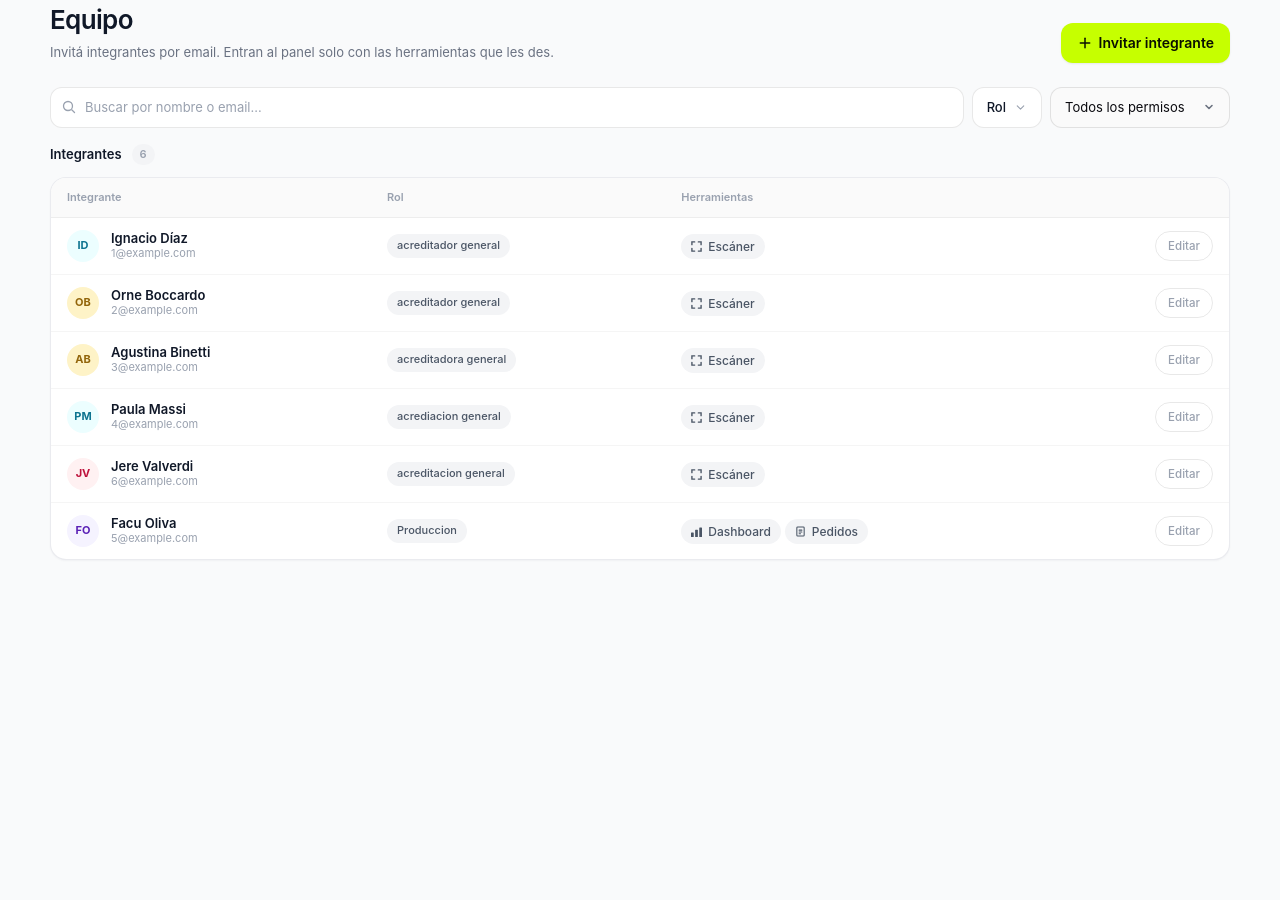
StaffView › si el rol ya existe, ofrece copiar sus herramientas
Expected: the text "Ignacio Díaz" is shown, left=111, top=230, right=196, bottom=246
Click the button "Invitar integrante".
click(1145, 42)  # box left=1061, top=22, right=1230, bottom=62
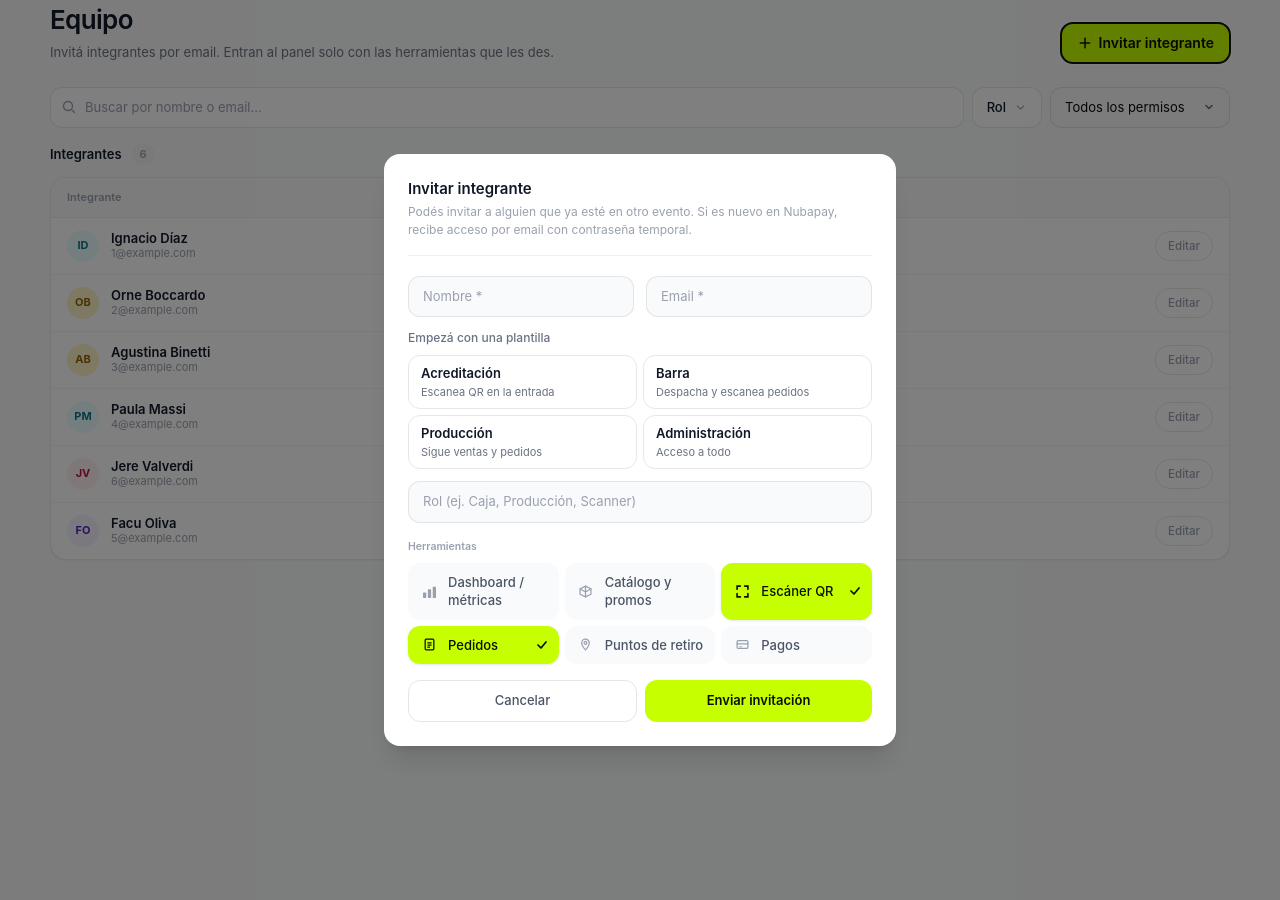
Type "Produccion" into the field with placeholder "Rol (ej. Caja, Producción, Scanner)".
click(640, 502); type("Produccion")  # box left=408, top=481, right=872, bottom=523
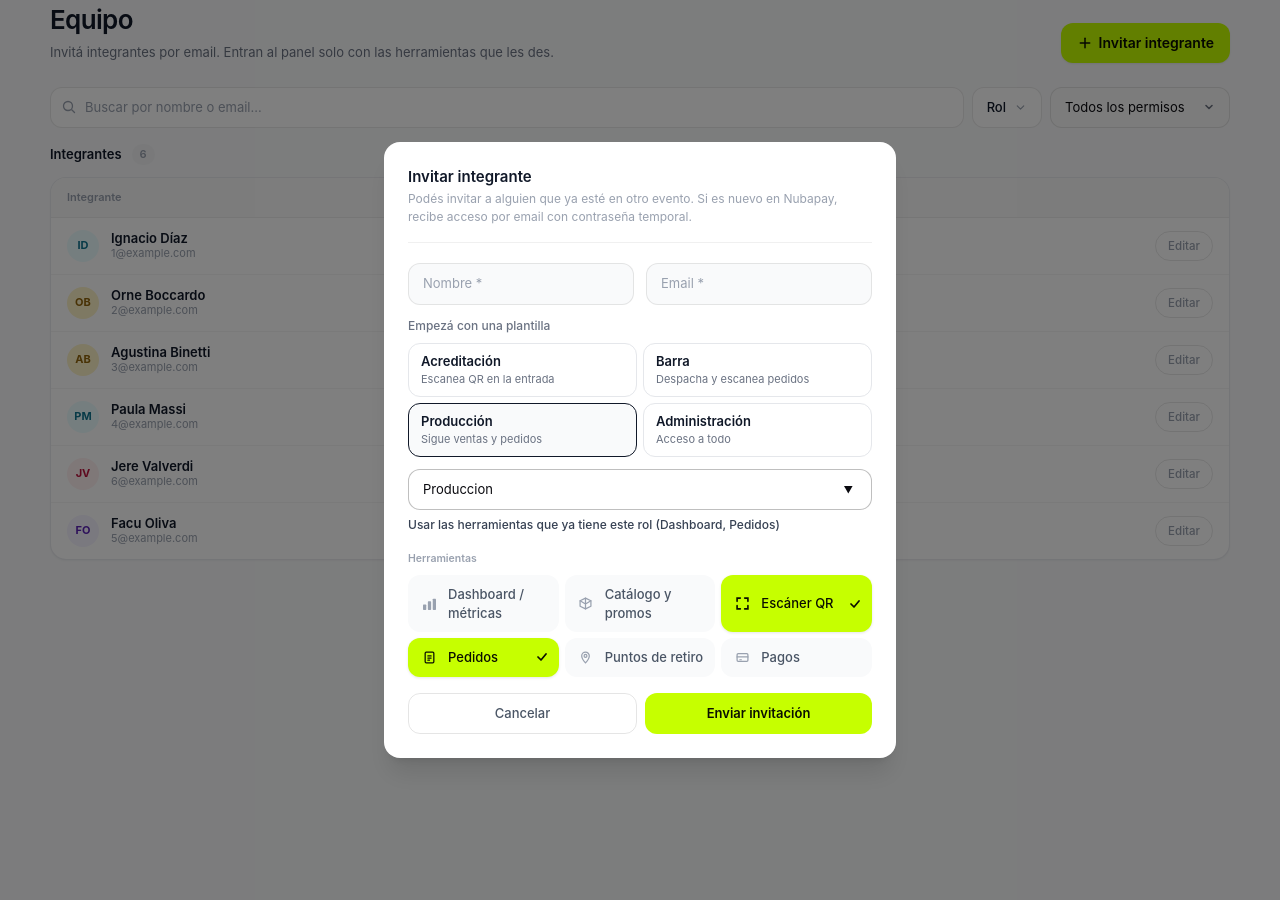
Click the button "Usar las herramientas que ya tiene este rol (Dashboard, Pedidos)".
click(594, 525)  # box left=408, top=516, right=780, bottom=534
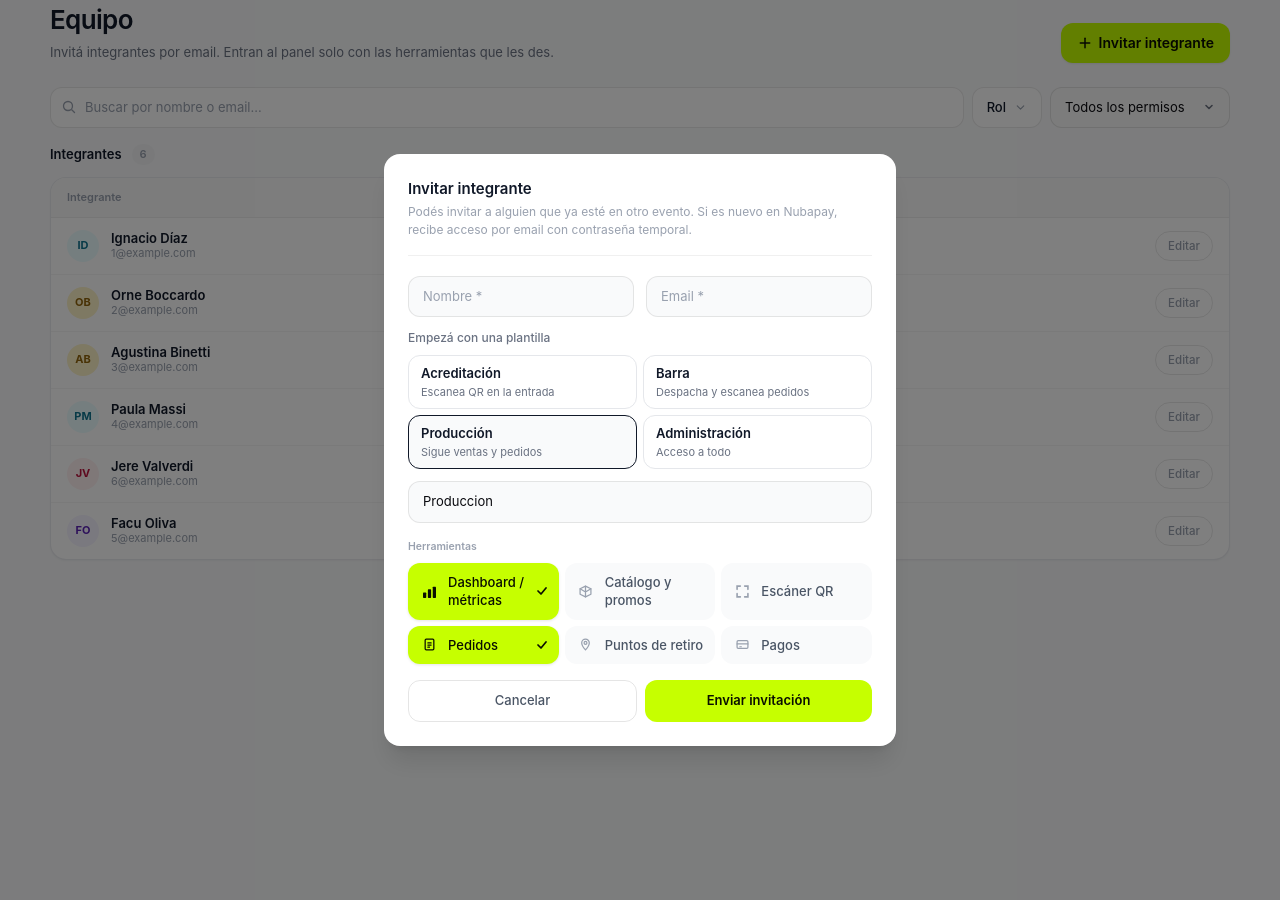
Expected: the button "Usar las herramientas" is gone
